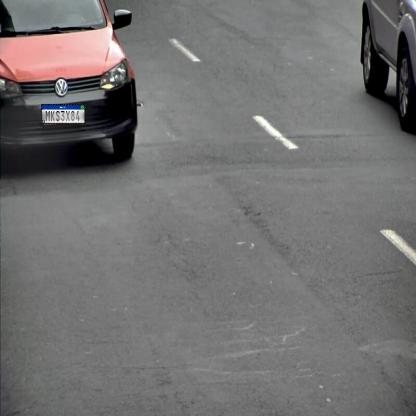PlacaM: (41, 104, 85, 124)
